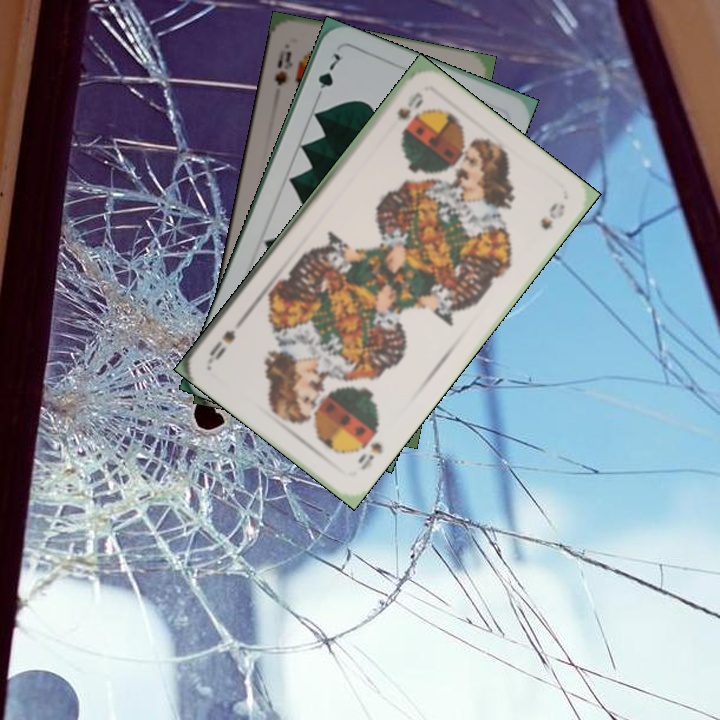G7: (312, 48, 344, 104)
S8: (271, 46, 296, 88)
SO: (392, 88, 427, 124), (353, 438, 386, 473)
